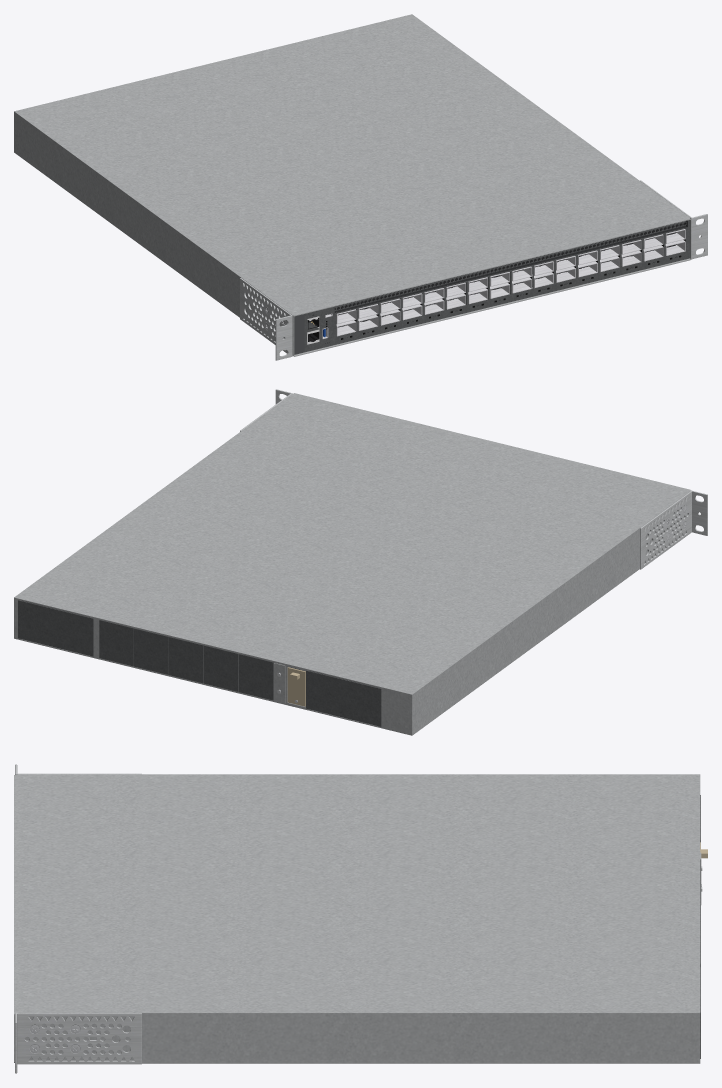
The picture shows the model from 3 angles, top to bottom: view 1: azimuth 30°, elevation 25°; view 2: azimuth 150°, elevation 25°; view 3: azimuth 270°, elevation 25°; orthographic projection. The views are drawn at different scales.
Parts seen in each view (by area): view 1: Shell, Port_Cages, Rack_Ears, Front_Lip, Vent_Top, Front_Details; view 2: Shell, Rack_Ears, empty:PS-1, empty:PS-0, empty:FAN 0, empty:FAN 1, empty:FAN 2, empty:FAN 3, empty:FAN 4, SSD_Ground, Front_Lip; view 3: Shell, Rack_Ears, Front_Lip.
Part boxes in pixels (<box>): Shell: <box>14,14,689,352</box>; Port_Cages: <box>336,229,685,336</box>; Rack_Ears: <box>240,180,707,360</box>; Front_Lip: <box>292,218,691,356</box>; Vent_Top: <box>334,221,686,310</box>; Front_Details: <box>294,256,677,354</box>; Shell: <box>14,394,690,735</box>; Rack_Ears: <box>240,389,707,569</box>; empty:PS-1: <box>18,600,93,656</box>; empty:PS-0: <box>306,670,381,726</box>; empty:FAN 0: <box>239,654,273,700</box>; empty:FAN 1: <box>204,645,238,691</box>; empty:FAN 2: <box>169,637,203,683</box>; empty:FAN 3: <box>134,628,168,674</box>; empty:FAN 4: <box>99,620,133,666</box>; SSD_Ground: <box>274,663,305,706</box>; Front_Lip: <box>293,393,691,490</box>; Shell: <box>17,774,700,1063</box>; Rack_Ears: <box>15,764,141,1073</box>; Front_Lip: <box>14,775,17,1062</box>.
Bounding box in the file's own units: 0.4826 × 0.044 × 0.547.
23 materials, 8 textured.
